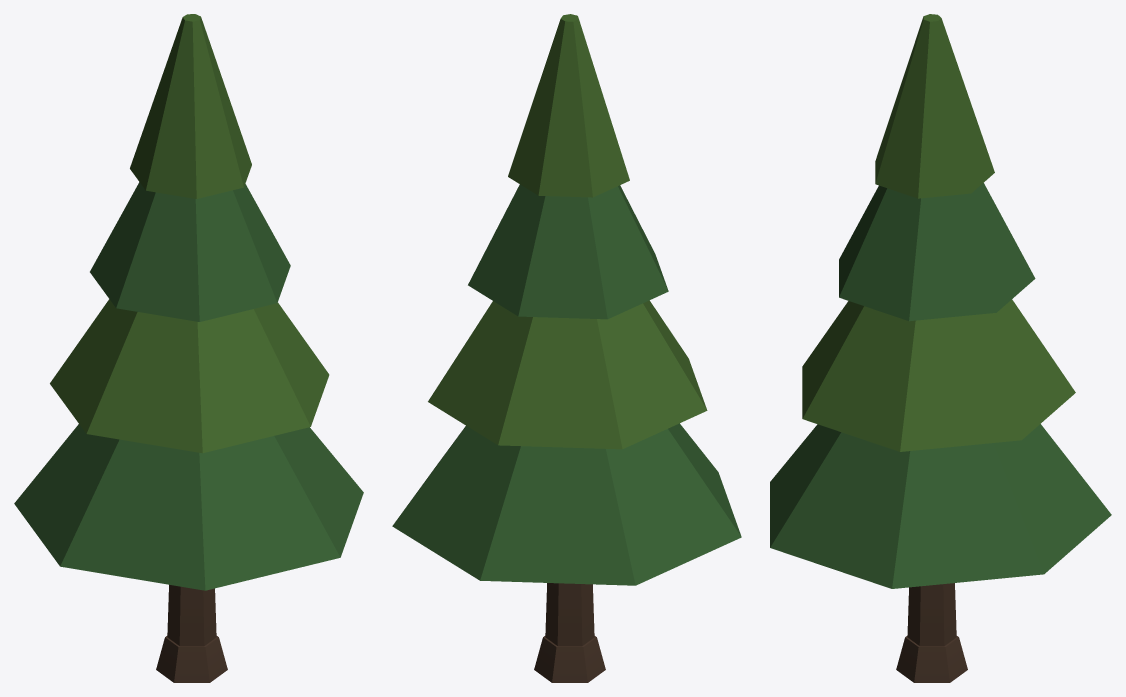
File: e_tree_b.glb
The picture shows the model from 3 angles, left to right: view 1: azimuth 30°, elevation 25°; view 2: azimuth 150°, elevation 25°; view 3: azimuth 270°, elevation 25°; orthographic projection.
Visible parts, largest first — view 1: e_tree_b; view 2: e_tree_b; view 3: e_tree_b.
Boxes of the visible parts, bbox=[...] form: e_tree_b: bbox=[14, 14, 363, 682]; e_tree_b: bbox=[392, 14, 741, 682]; e_tree_b: bbox=[770, 14, 1111, 682].
Bounding box in the file's own units: 3.9 × 8 × 3.8.
